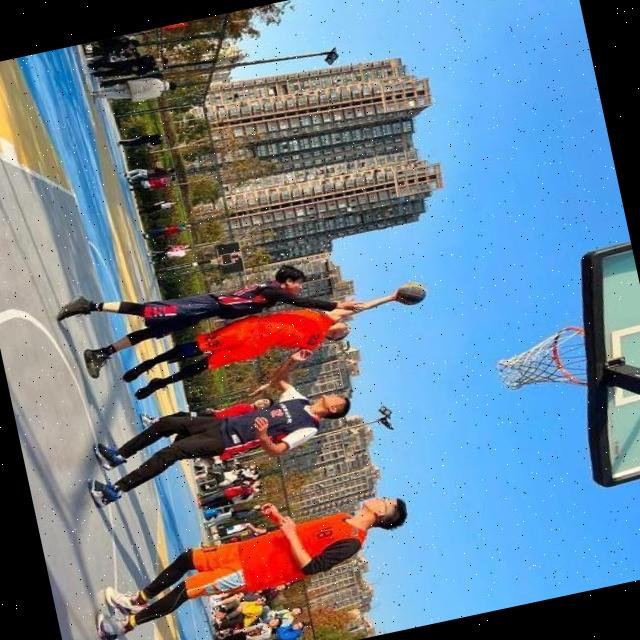ball: (393, 282, 428, 308)
